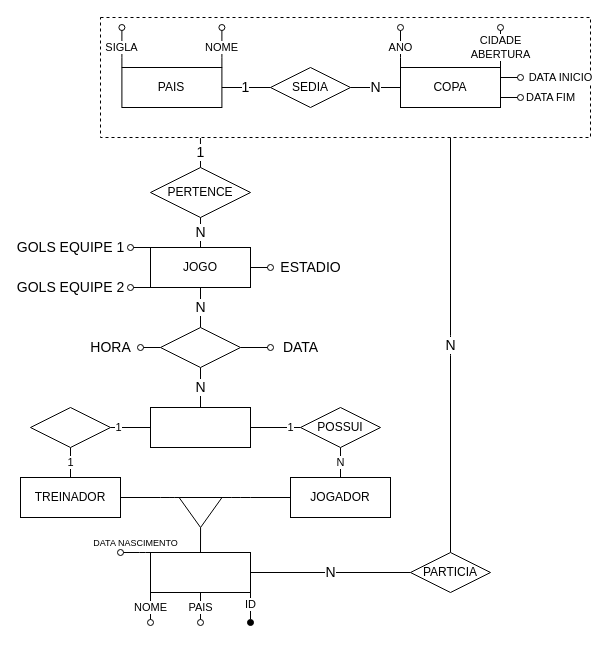
The diagram is 610 pixels wide and 648 high, and some of its shapes have lost their labels. Here are the shapes that lost their labels. From the top down, the centre of each, then its label:
the point at 200,347: JOGA
the point at 70,427: TREINA
the point at 200,427: EQUIPE
the point at 200,572: PESSOA
